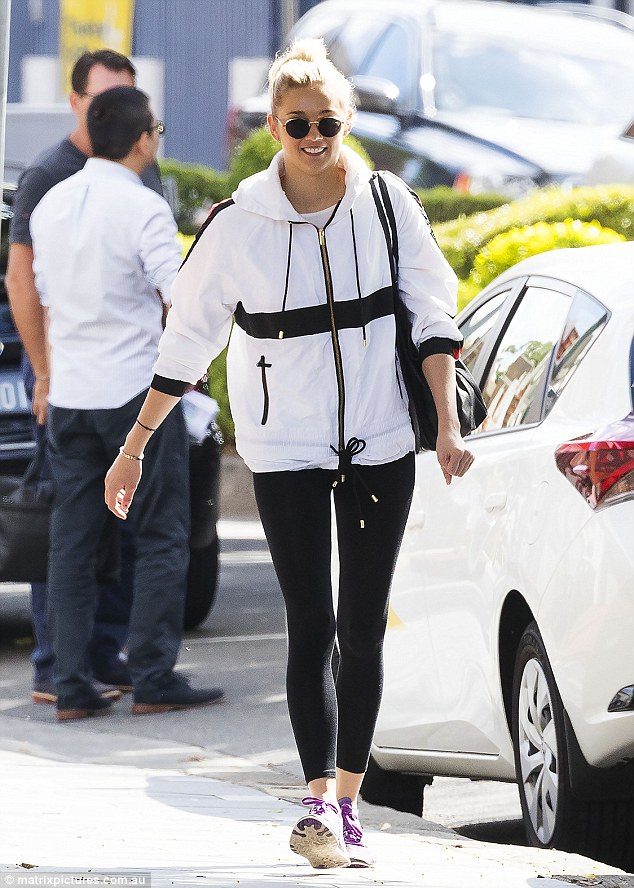Person: (185, 36, 475, 868), (33, 88, 182, 394)
